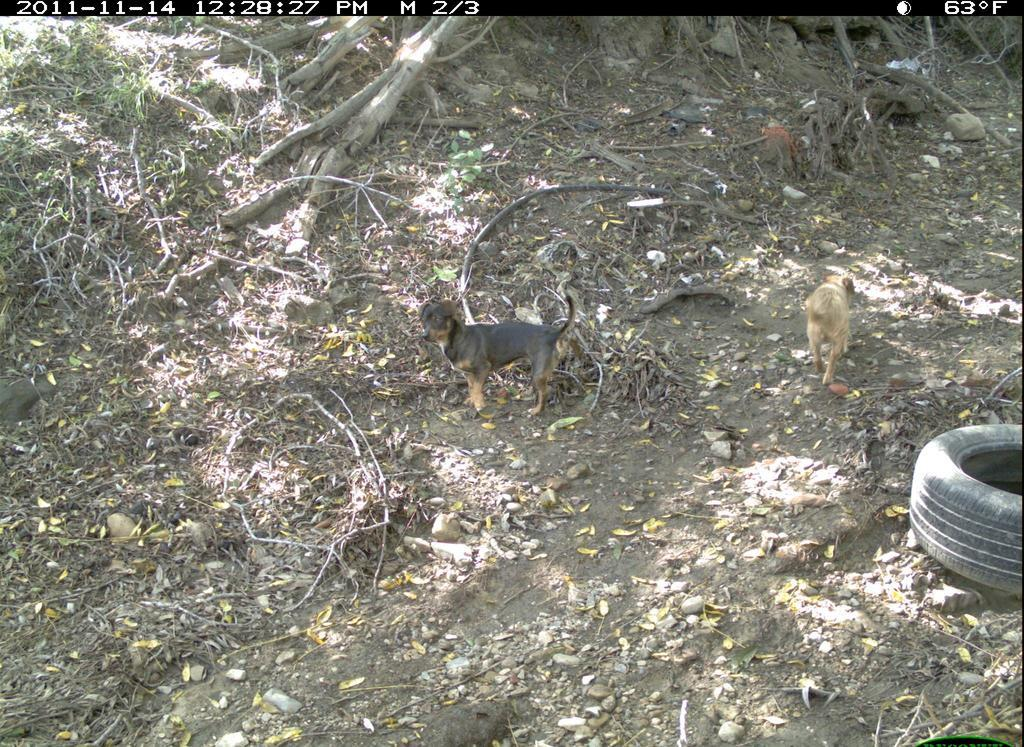dog: (404, 286, 606, 434), (794, 263, 882, 397)
